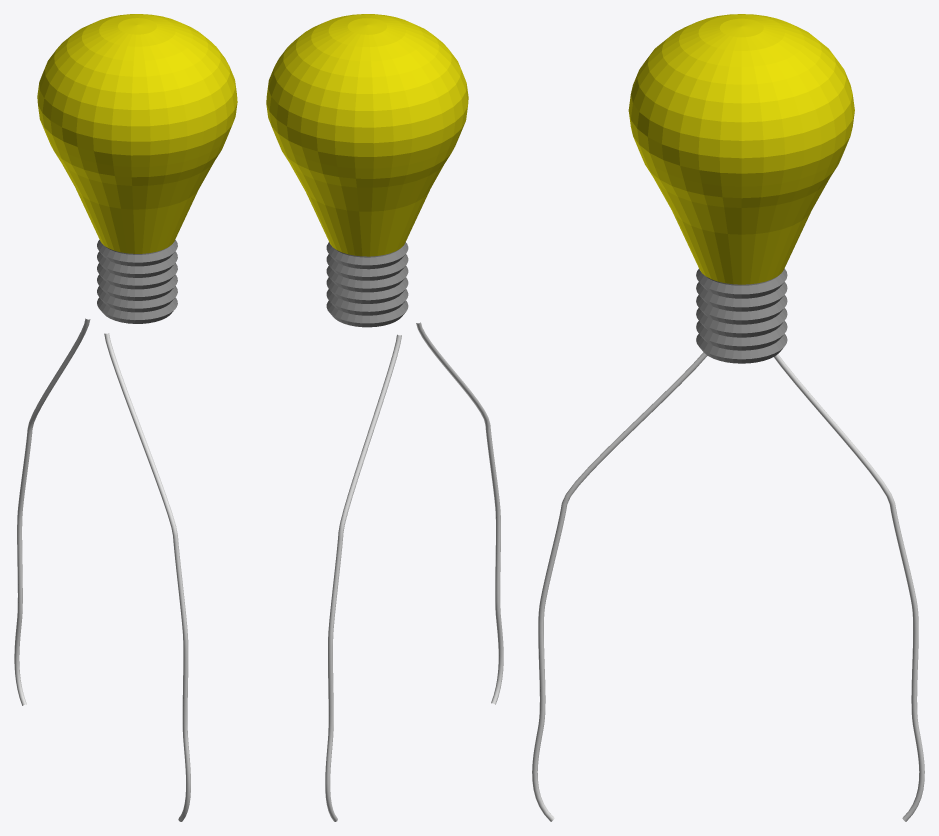
Rendered from on bulb.gltf.
3 renders of one model, left to right at view 1: azimuth 30°, elevation 25°; view 2: azimuth 150°, elevation 25°; view 3: azimuth 270°, elevation 25°, orthographic. The views are drawn at different scales.
Visible parts, largest first — view 1: Sphere.001, BezierCurve.001, BezierCurve; view 2: Sphere.001, BezierCurve, BezierCurve.001; view 3: Sphere.001, BezierCurve.001, BezierCurve.
Boxes of the visible parts, <box> form: Sphere.001: <box>37,14,237,323</box>; BezierCurve.001: <box>104,333,190,821</box>; BezierCurve: <box>14,318,90,705</box>; Sphere.001: <box>266,14,468,327</box>; BezierCurve: <box>325,334,401,821</box>; BezierCurve.001: <box>416,322,503,704</box>; Sphere.001: <box>628,14,854,363</box>; BezierCurve.001: <box>532,352,707,821</box>; BezierCurve: <box>774,354,924,821</box>.
Size of the model in its own units: 5.58 by 22.24 by 9.68.
